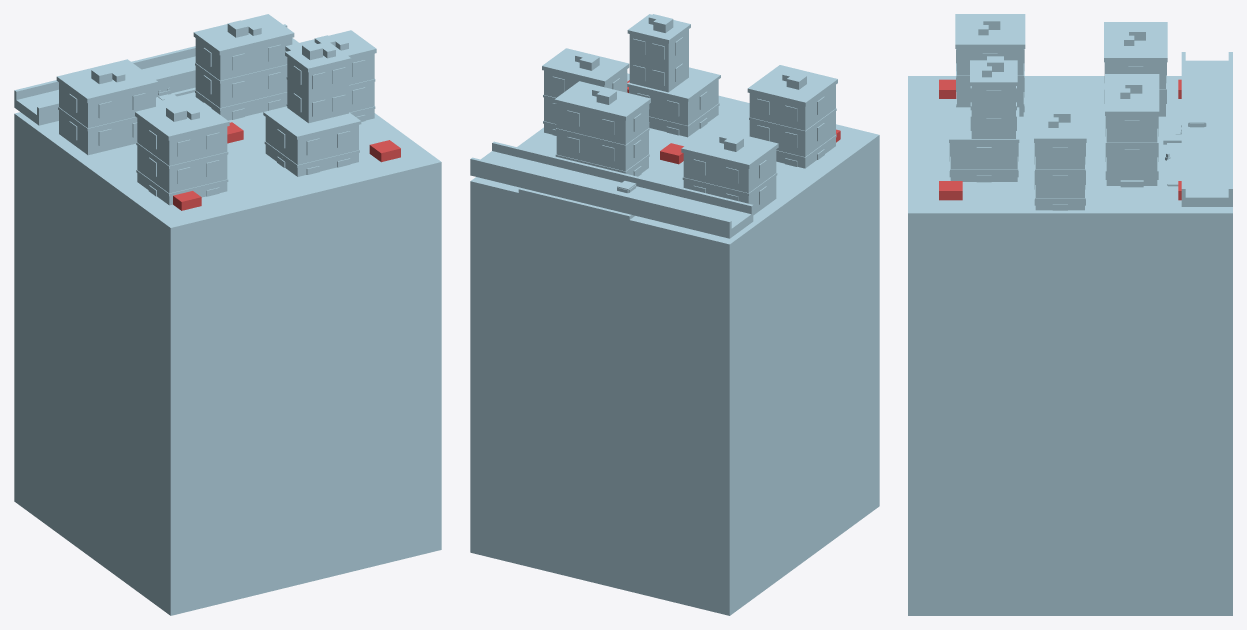
The model's file is block_6_sewersystem_100.glb.
3 renders of one model, left to right at view 1: azimuth 30°, elevation 25°; view 2: azimuth 150°, elevation 25°; view 3: azimuth 270°, elevation 25°, orthographic. The views are drawn at different scales.
Parts seen in each view (by area): view 1: Patch_UpperLeft_b01_SL, Res_UL_04_SL, Res_UL_02_SL, Res_UL_01_SL, Res_UL_00_SL, Bridge_UpperLeft_b01_SL, Res_UL_03_SL, SL_Net_06, Green_UpperLeft_j4_b01_SL, Roads_UpperLeft_b01_SL; view 2: Patch_UpperLeft_b01_SL, Bridge_UpperLeft_b01_SL, Res_UL_04_SL, Res_UL_02_SL, Res_UL_01_SL, Res_UL_00_SL, Res_UL_03_SL, Paver_UpperLeft_b01_SL, Green_UpperLeft_j4_b01_SL; view 3: Patch_UpperLeft_b01_SL, Res_UL_04_SL, Bridge_UpperLeft_b01_SL, Res_UL_02_SL, Res_UL_03_SL, Res_UL_01_SL, Res_UL_00_SL, Green_UpperLeft_j4_b01_SL, SL_Net_06.
Boxes of the visible parts, box(x1,y1,x2,y2) form: Patch_UpperLeft_b01_SL: box(14, 112, 441, 615); Res_UL_04_SL: box(263, 41, 361, 176); Res_UL_02_SL: box(193, 14, 294, 120); Res_UL_01_SL: box(135, 97, 229, 205); Res_UL_00_SL: box(56, 59, 158, 155); Bridge_UpperLeft_b01_SL: box(14, 24, 298, 125); Res_UL_03_SL: box(285, 30, 376, 121); SL_Net_06: box(173, 122, 400, 210); Green_UpperLeft_j4_b01_SL: box(14, 92, 441, 287); Roads_UpperLeft_b01_SL: box(155, 94, 440, 286); Patch_UpperLeft_b01_SL: box(470, 73, 879, 615); Bridge_UpperLeft_b01_SL: box(470, 141, 753, 238); Res_UL_04_SL: box(627, 14, 720, 137); Res_UL_02_SL: box(554, 81, 650, 176); Res_UL_01_SL: box(747, 65, 837, 168); Res_UL_00_SL: box(681, 127, 778, 215); Res_UL_03_SL: box(542, 48, 629, 135); Paver_UpperLeft_b01_SL: box(471, 188, 753, 272); Green_UpperLeft_j4_b01_SL: box(470, 191, 879, 272); Patch_UpperLeft_b01_SL: box(908, 76, 1232, 615); Res_UL_04_SL: box(949, 56, 1019, 182); Bridge_UpperLeft_b01_SL: box(1181, 52, 1232, 206); Res_UL_02_SL: box(1105, 74, 1159, 187); Res_UL_03_SL: box(1034, 105, 1086, 210); Res_UL_01_SL: box(955, 14, 1025, 116); Res_UL_00_SL: box(1104, 22, 1167, 116); Green_UpperLeft_j4_b01_SL: box(908, 143, 1232, 275); SL_Net_06: box(939, 79, 1181, 200).
Size of the model in its own units: 9.5 by 16.54 by 9.5.
